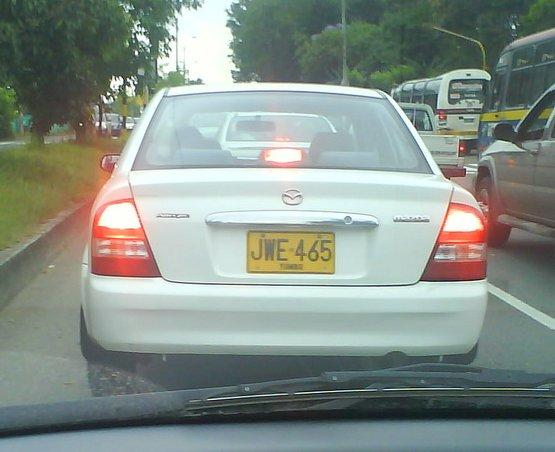placas: (244, 227, 337, 276)
